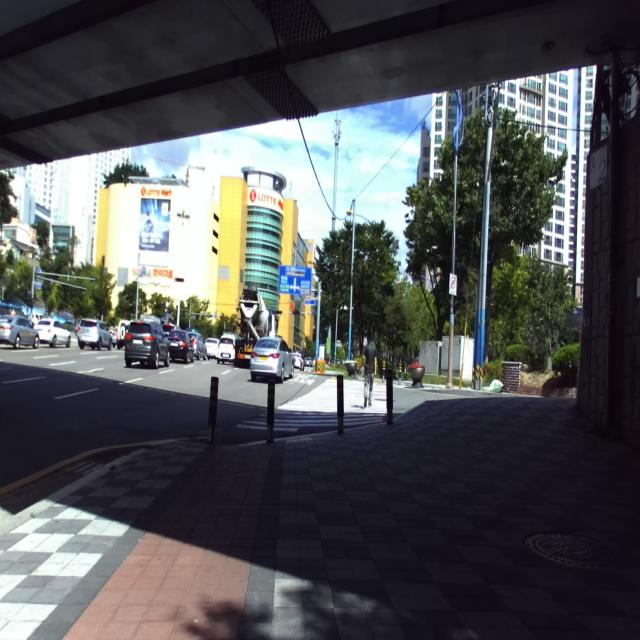횡단보도: (235, 378, 387, 432)
